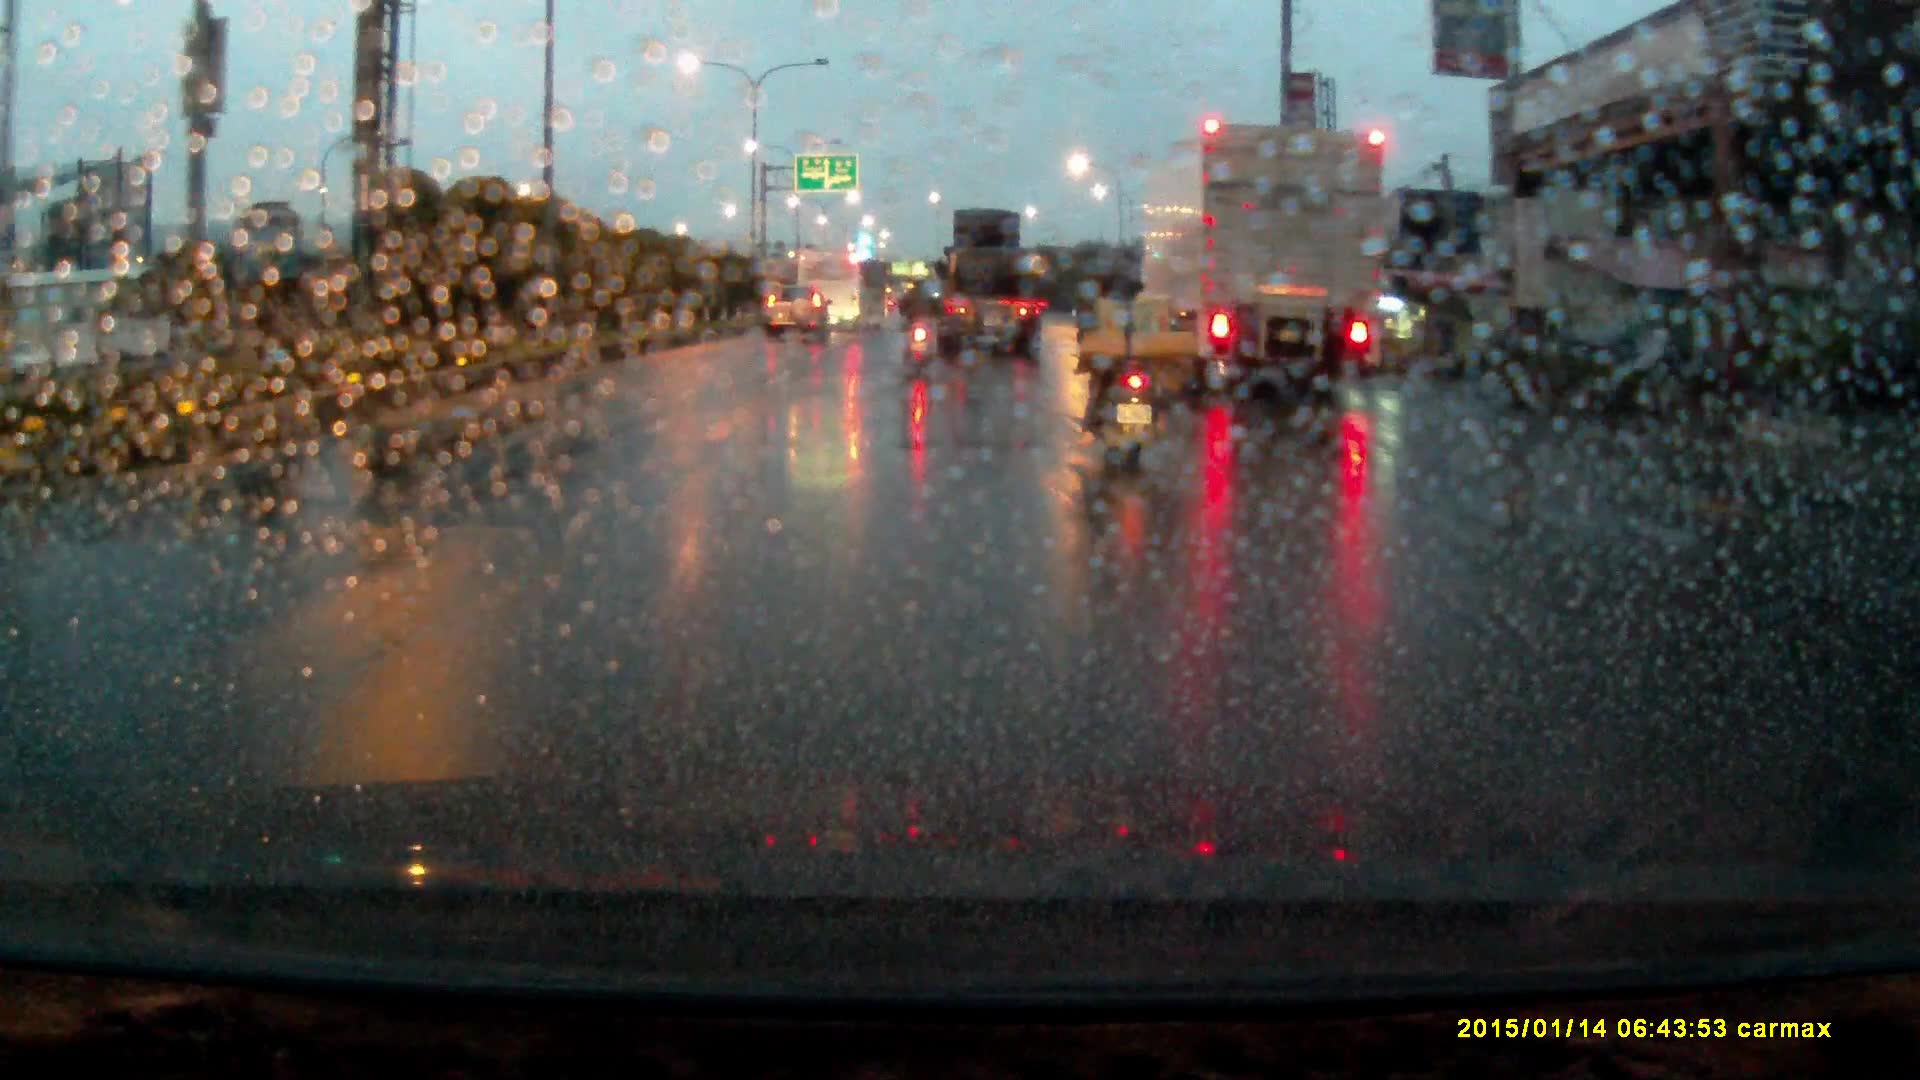rider: (1074, 253, 1173, 476), (901, 270, 940, 375)
vehicle: (1128, 120, 1387, 401), (937, 206, 1051, 365), (798, 248, 868, 332), (762, 285, 834, 350)
